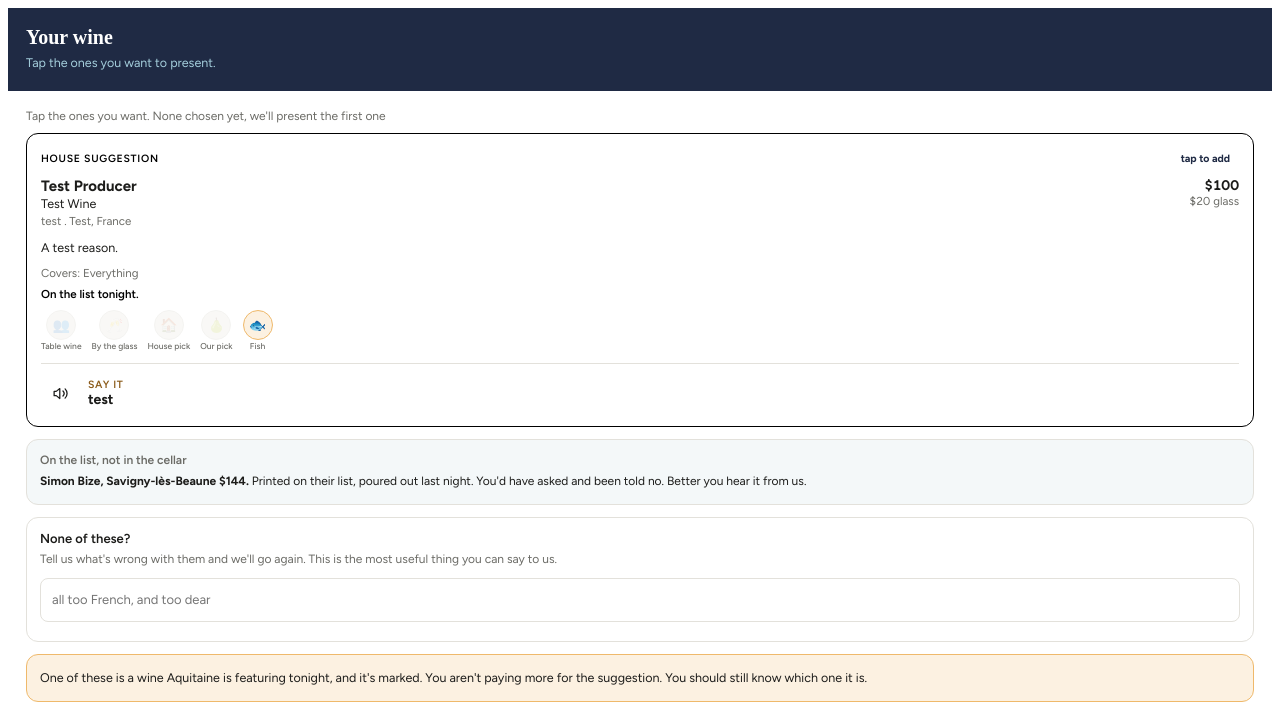
Test case: TheWine <-> WineCardIcons wiring › wires proteinIcons through so it renders nothing when absent and the right icon when present
Click the button with test id "wine-icon-protein-fish-0": (258, 325) [243, 310, 273, 340]
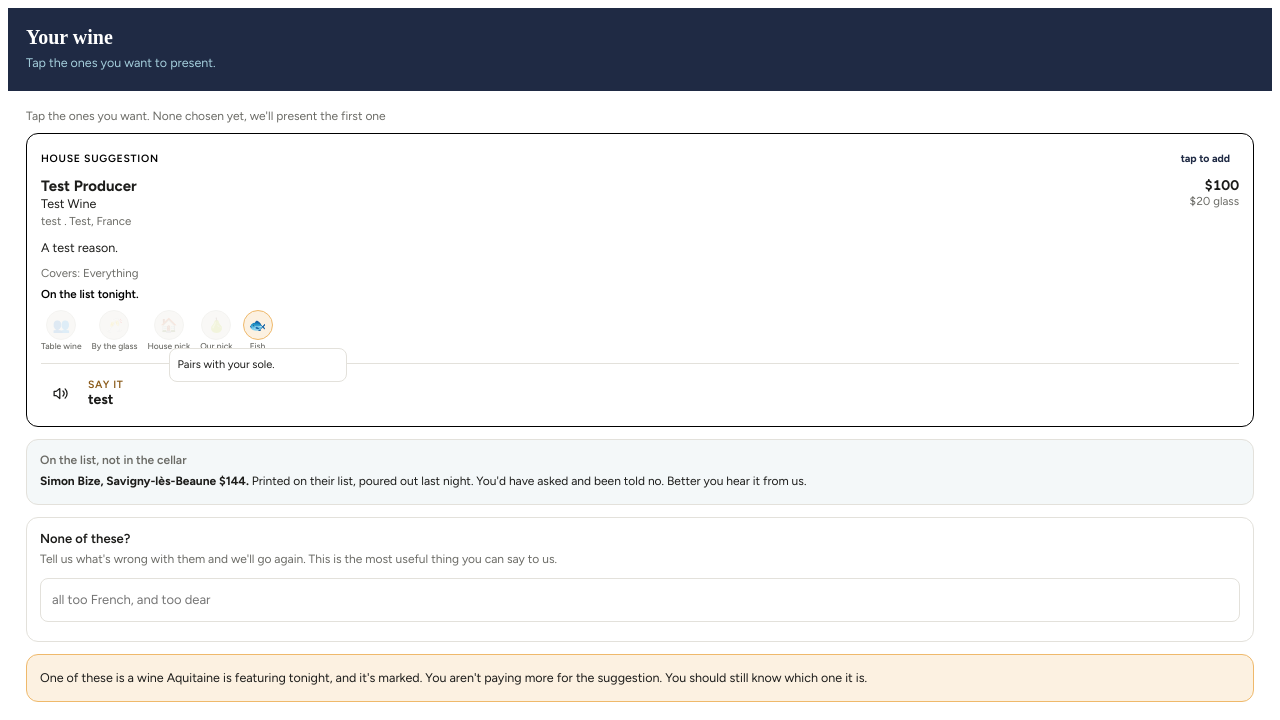
Now the text with test id "wine-icon-explainer-protein-fish-0" reads "Pairs with your sole.", box [178, 358, 275, 371]
